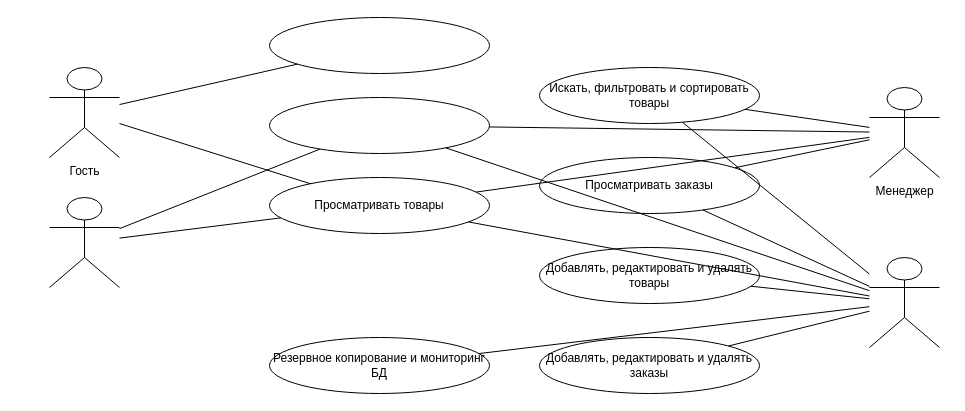
Some shapes in this 965 by 411 pixel diagram are drawn without their labels. The box of each missing label's shape, as (x1, y1, x2, y2) in pixels:
Авторизованный клиент: (48, 196, 120, 288)
Авторизоваться: (268, 96, 490, 154)
Администратор: (868, 256, 940, 348)
Войти как гость: (268, 16, 490, 74)
